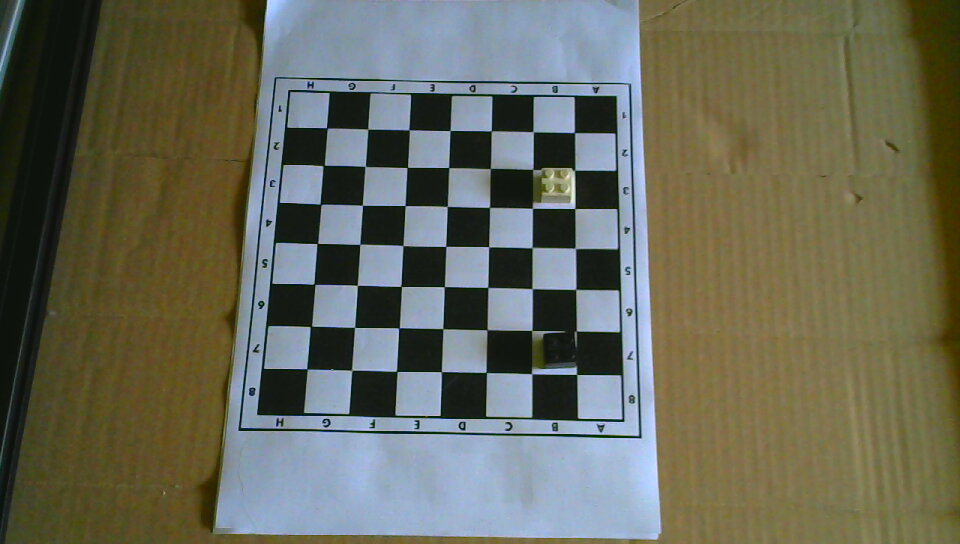bp: (539, 329, 579, 370)
wp: (538, 164, 574, 206)
